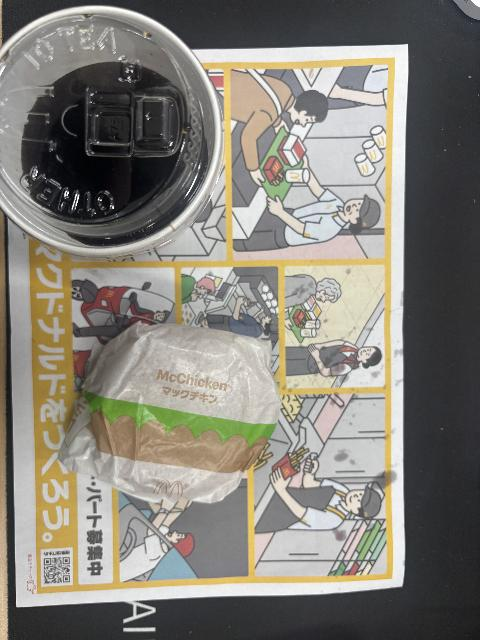burger: (59, 321, 281, 506)
drink: (1, 5, 223, 262)
